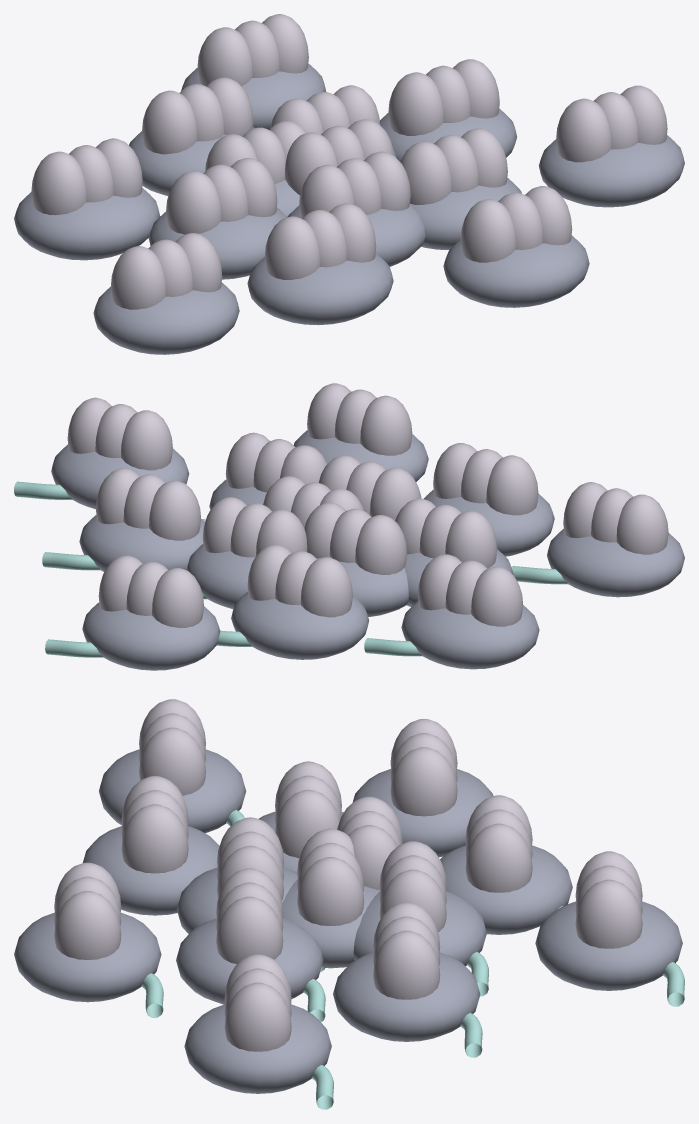
Rendered from bio_acid_mat_21_near.glb.
The picture shows the model from 3 angles, top to bottom: view 1: azimuth 30°, elevation 25°; view 2: azimuth 150°, elevation 25°; view 3: azimuth 270°, elevation 25°; orthographic projection. The views are drawn at different scales.
Visible parts, largest first — view 1: Microbial cushion.012, Microbial cushion.010, Microbial cushion.007, Microbial cushion.013, Microbial cushion.009, Reaction vesicle.039, Reaction vesicle.024, Reaction vesicle.027, Reaction vesicle.021, Reaction vesicle.036, Reaction vesicle.030, Reaction vesicle.012 (+14 smaller); view 2: Microbial cushion.009, Microbial cushion.006, Microbial cushion.011, Microbial cushion.012, Reaction vesicle.039, Reaction vesicle.018, Reaction vesicle.030, Reaction vesicle.036, Reaction vesicle.021, Reaction vesicle.024, Reaction vesicle.027, Reaction vesicle.033 (+20 smaller); view 3: Microbial cushion.008, Microbial cushion.013, Microbial cushion.011, Microbial cushion.010, Microbial cushion.006, Reaction vesicle.039, Reaction vesicle.018, Reaction vesicle.033, Reaction vesicle.024, Reaction vesicle.021, Reaction vesicle.030, Reaction vesicle.027 (+19 smaller).
Part boxes in pixels (x1,y1,x2,y2): Microbial cushion.012: (93, 282, 239, 354); Microbial cushion.010: (443, 235, 589, 307); Microbial cushion.007: (247, 253, 393, 325); Microbial cushion.013: (538, 135, 684, 207); Microbial cushion.009: (14, 188, 160, 260); Reaction vesicle.039: (556, 85, 667, 162); Reaction vesicle.024: (388, 59, 499, 135); Reaction vesicle.027: (31, 138, 142, 215); Reaction vesicle.021: (265, 203, 376, 279); Reaction vesicle.036: (111, 233, 222, 309); Reaction vesicle.030: (460, 186, 572, 262); Reaction vesicle.012: (166, 158, 277, 234); Microbial cushion.009: (401, 601, 539, 669); Microbial cushion.006: (231, 591, 369, 659); Microbial cushion.011: (82, 602, 220, 670); Microbial cushion.012: (547, 529, 684, 597); Reaction vesicle.039: (67, 397, 172, 470); Reaction vesicle.018: (247, 544, 352, 617); Reaction vesicle.030: (307, 383, 412, 455); Reaction vesicle.036: (563, 482, 668, 554); Reaction vesicle.021: (433, 443, 538, 515); Reaction vesicle.024: (96, 468, 200, 540); Reaction vesicle.027: (418, 554, 522, 626); Reaction vesicle.033: (98, 555, 203, 627); Microbial cushion.008: (333, 952, 480, 1041); Microbial cushion.013: (184, 1004, 331, 1093); Microbial cushion.011: (535, 901, 682, 990); Microbial cushion.010: (14, 912, 161, 1002); Microbial cushion.006: (440, 845, 572, 934); Reaction vesicle.039: (224, 954, 291, 1051); Reaction vesicle.018: (465, 795, 532, 892); Reaction vesicle.033: (575, 851, 642, 948); Reaction vesicle.024: (373, 902, 440, 999); Reaction vesicle.021: (121, 776, 188, 873); Reaction vesicle.030: (54, 862, 121, 959); Reaction vesicle.027: (390, 719, 457, 816).
Bounding box in the file's own units: 2.33 × 0.36 × 2.
